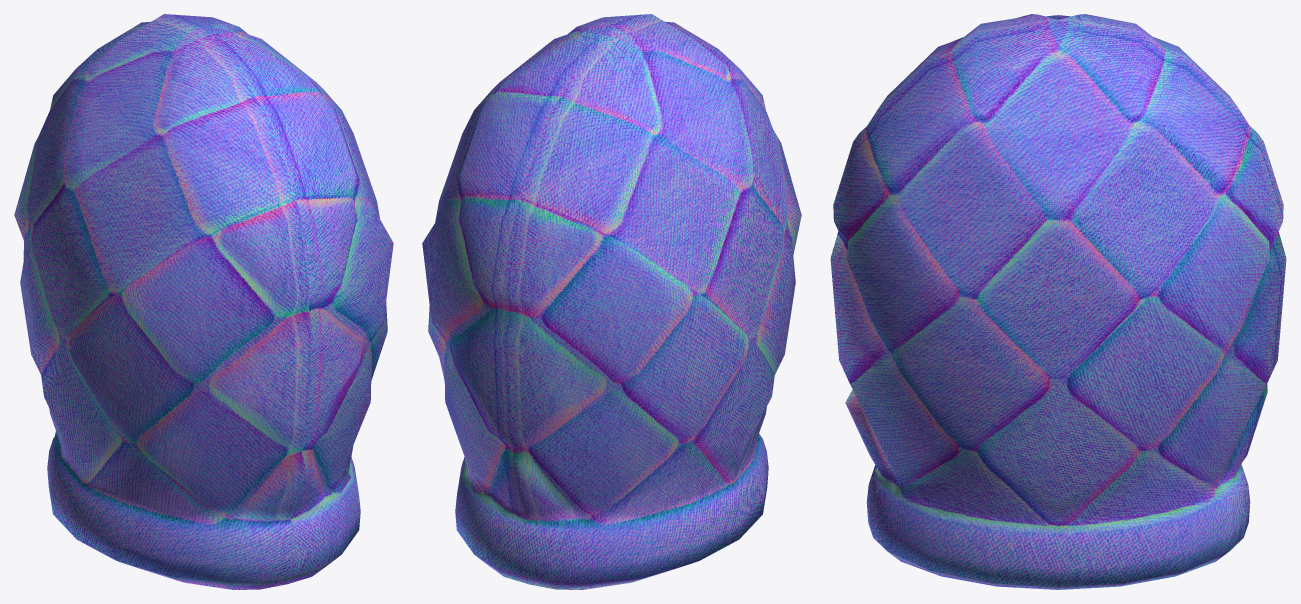
Rendered from LavaMitt.fbx.
3 renders of one model, left to right at view 1: azimuth 30°, elevation 25°; view 2: azimuth 150°, elevation 25°; view 3: azimuth 270°, elevation 25°, orthographic. The views are drawn at different scales.
Parts seen in each view (by area): view 1: RetopoGroup1; view 2: RetopoGroup1; view 3: RetopoGroup1.
Part boxes in pixels (x1=…): RetopoGroup1: x1=14, y1=14, x2=393, y2=589; RetopoGroup1: x1=422, y1=14, x2=801, y2=589; RetopoGroup1: x1=830, y1=14, x2=1286, y2=589.
Bounding box in the file's own units: 70.42 × 112 × 89.47.
